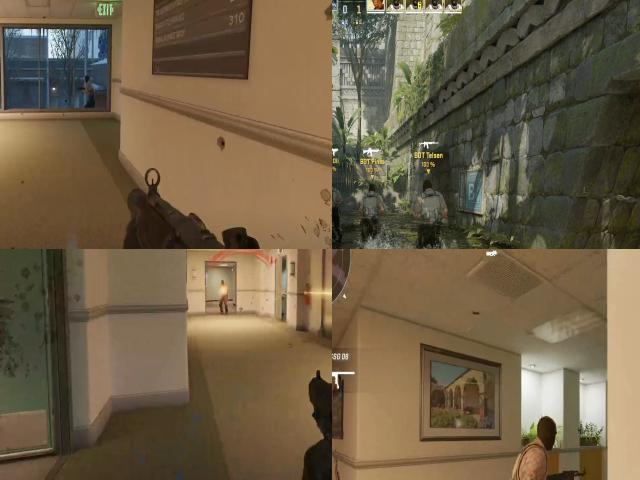Bomb: (332, 186, 335, 203)
T: (411, 175, 447, 249), (356, 180, 388, 249), (79, 67, 99, 107), (332, 177, 343, 249), (218, 279, 230, 309), (82, 73, 92, 87)
T-Head: (528, 413, 563, 450), (421, 178, 436, 197), (365, 182, 379, 196), (220, 280, 227, 289), (332, 178, 337, 190)
